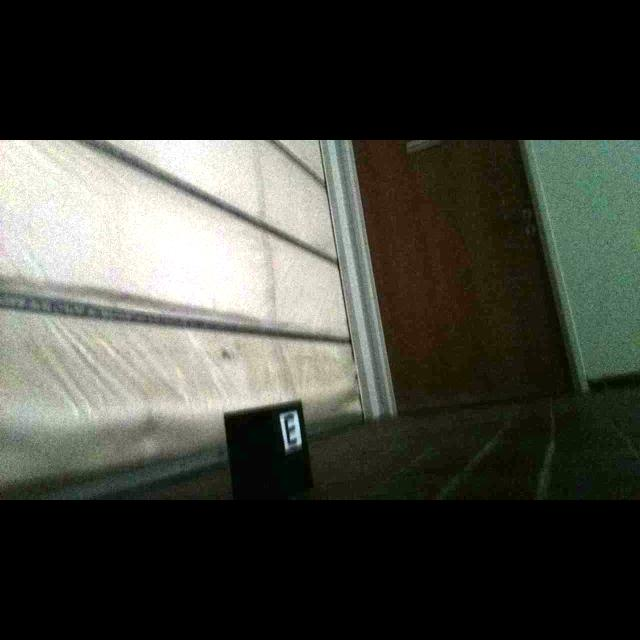E: (284, 412, 298, 446)
